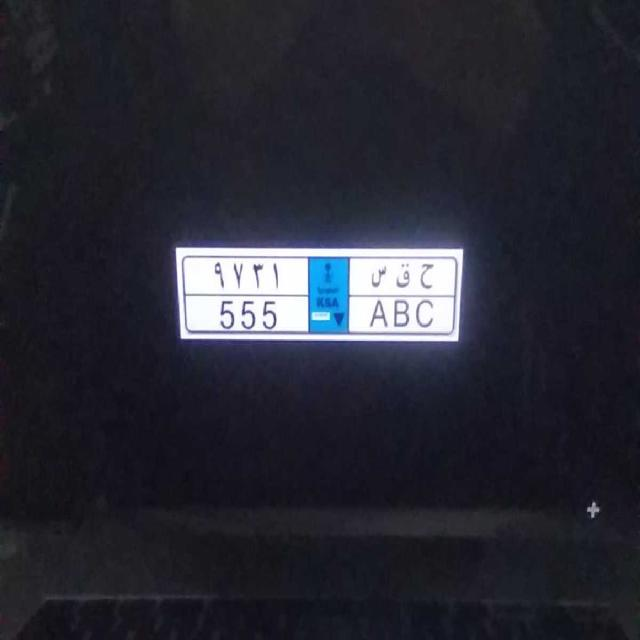license_plate: (194, 292, 451, 338)
